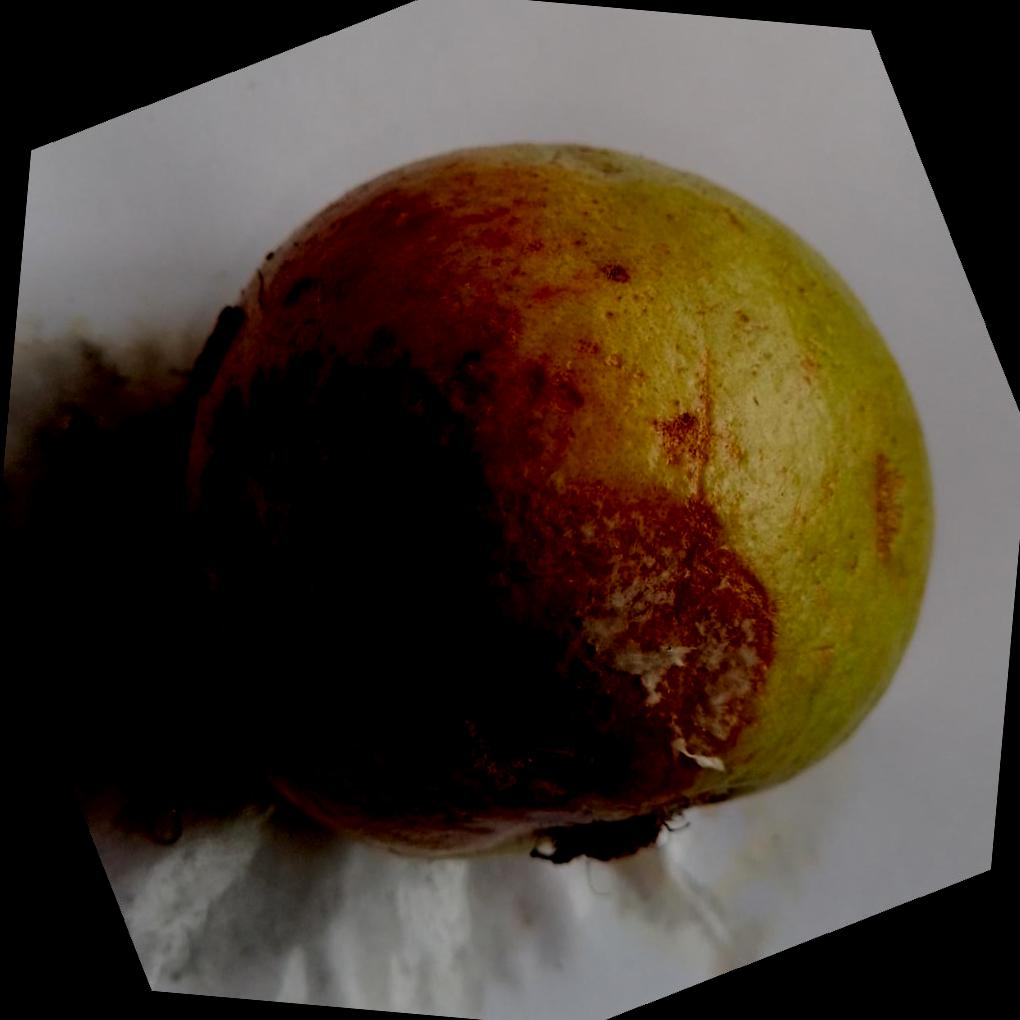FreshOrange: (173, 139, 934, 861)
